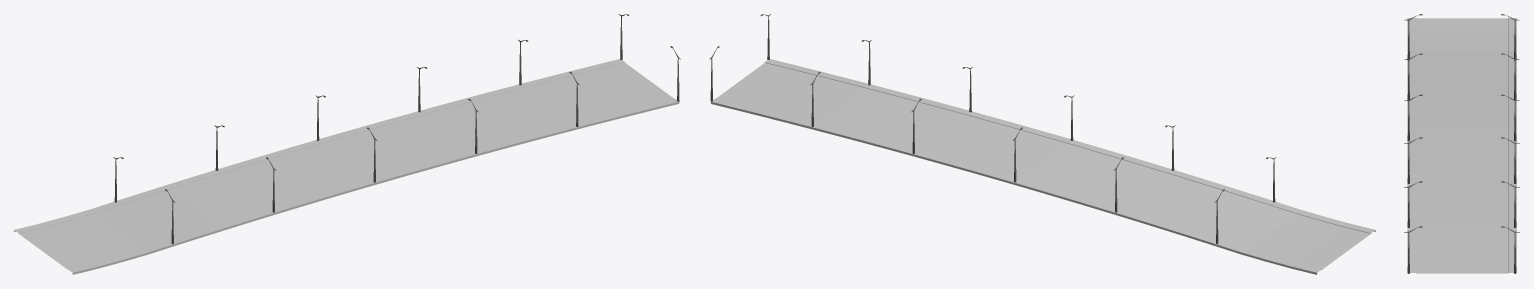
The model's file is Big_Road_down_5.FBX.
3 renders of one model, left to right at view 1: azimuth 30°, elevation 25°; view 2: azimuth 150°, elevation 25°; view 3: azimuth 270°, elevation 25°, orthographic. The views are drawn at different scales.
Parts seen in each view (by area): view 1: Big_Road_down_5; view 2: Big_Road_down_5; view 3: Big_Road_down_5, City086, City075, City076, City079, City085, City083, City082, City081, City080, City084, City078 (+1 smaller).
Part boxes in pixels (x1,y1,x2,y2): Big_Road_down_5: (14,59,679,274); Big_Road_down_5: (711,59,1375,274); Big_Road_down_5: (1407,18,1516,273); City086: (1404,226,1422,273); City075: (1501,226,1519,273); City076: (1501,181,1519,227); City079: (1404,181,1422,227); City085: (1404,94,1422,141); City083: (1404,14,1422,60); City082: (1501,14,1519,60); City081: (1501,137,1519,183); City080: (1501,94,1519,141); City084: (1404,137,1422,183); City078: (1404,53,1422,99).
Bounding box in the file's own units: 136 × 23.94 × 15.98.
